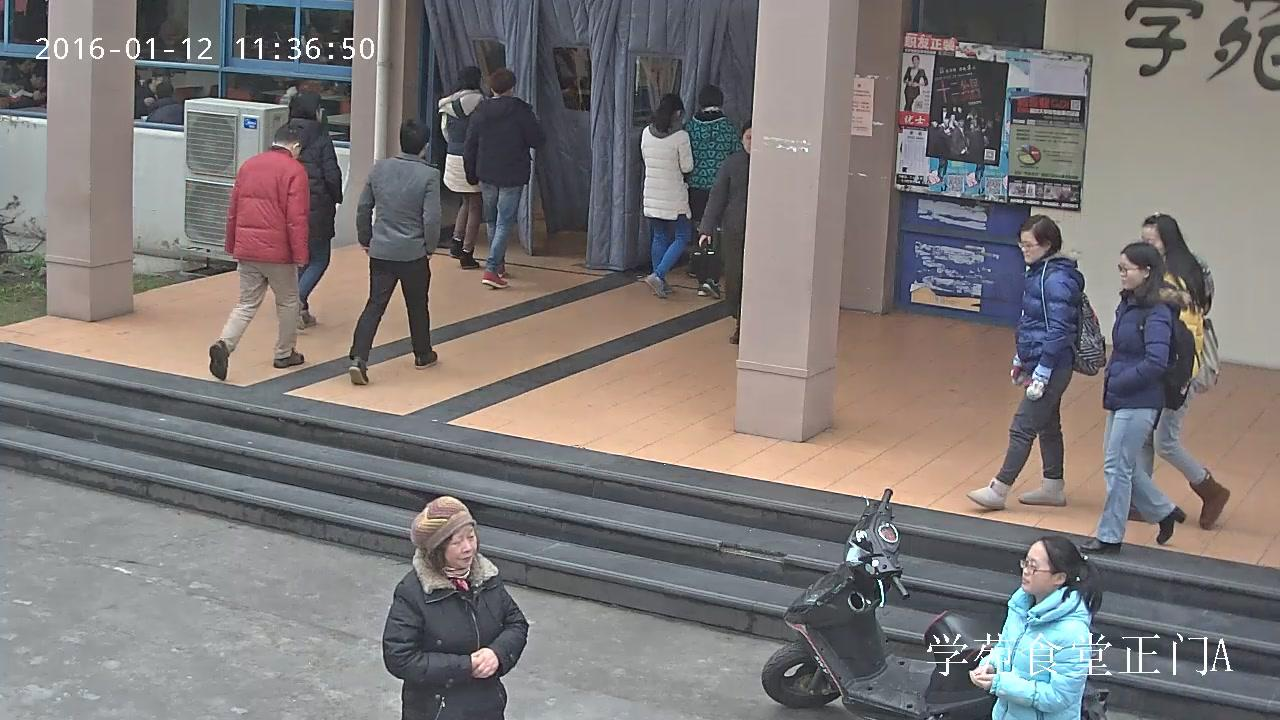person: (966, 213, 1107, 511), (1079, 240, 1185, 557), (1125, 213, 1229, 530), (382, 494, 527, 720), (209, 122, 309, 381), (969, 534, 1102, 720), (349, 118, 441, 386), (464, 66, 541, 288), (279, 89, 343, 334), (679, 84, 743, 300), (698, 120, 752, 344), (640, 93, 695, 301), (437, 66, 489, 268), (7, 63, 48, 109), (132, 68, 167, 120), (145, 82, 185, 126), (902, 54, 928, 112)
